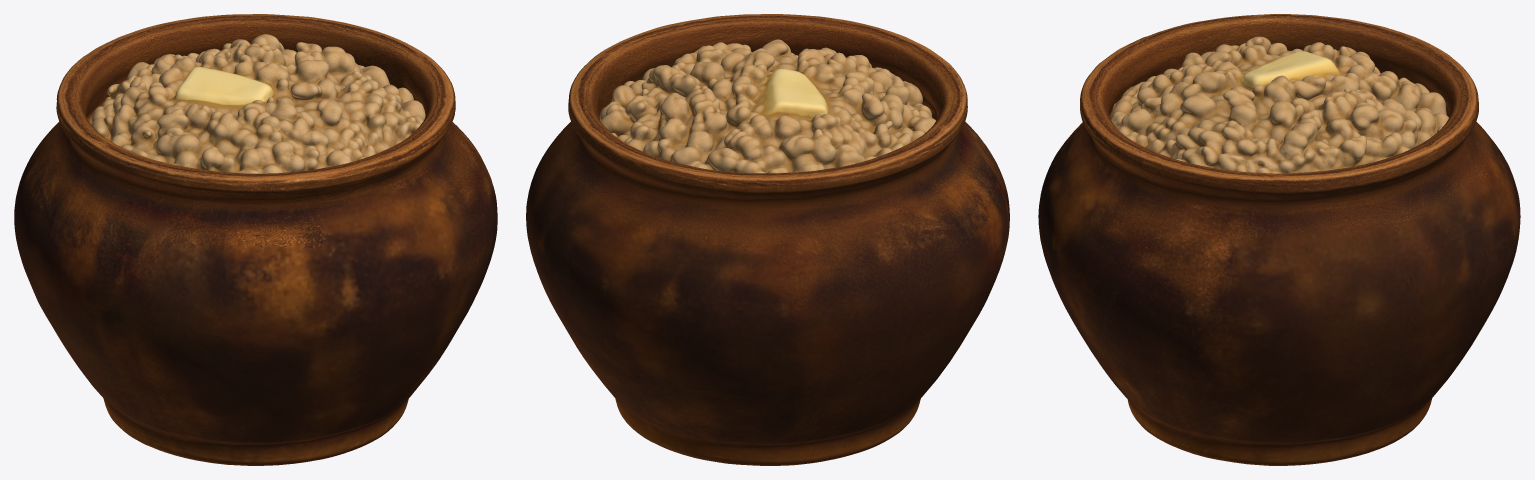
The model's file is food-barley-porridge-v1.glb.
3 renders of one model, left to right at view 1: azimuth 30°, elevation 25°; view 2: azimuth 150°, elevation 25°; view 3: azimuth 270°, elevation 25°, orthographic.
Bounding box in the file's own units: 1.9 × 1.46 × 1.9.
Materials: 1 (1 with a texture image).
